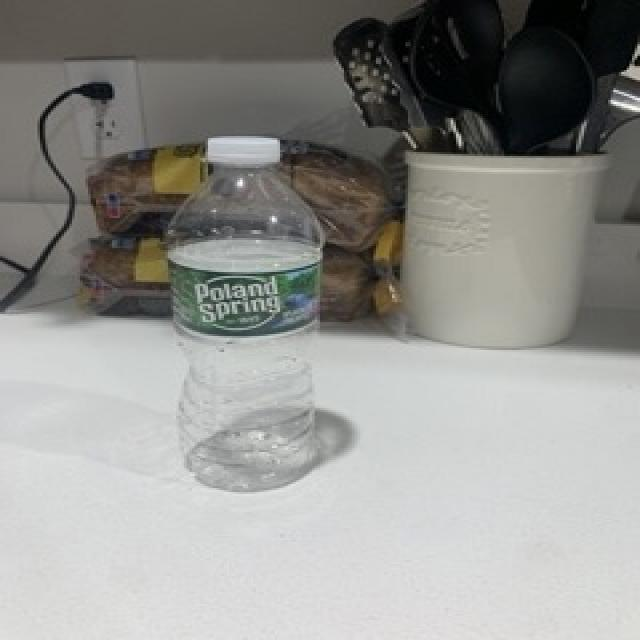water_bottle: (166, 136, 329, 496)
